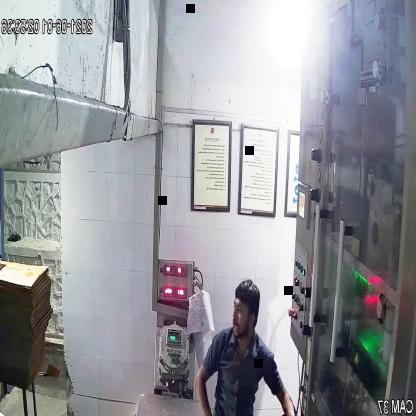no_goggles: (232, 299, 257, 321)
